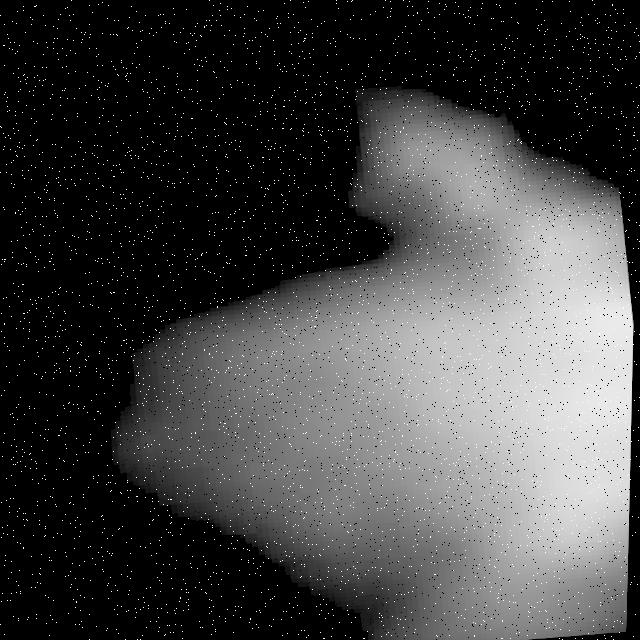person: (82, 59, 640, 640)
